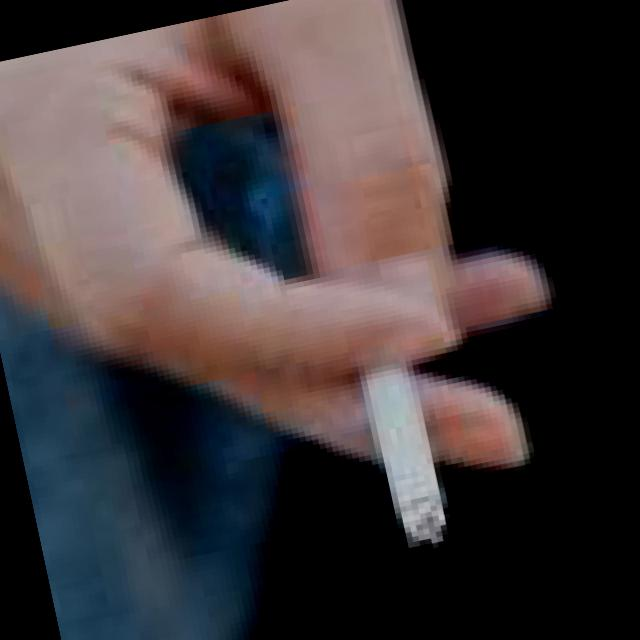smoke: (312, 239, 477, 598)
